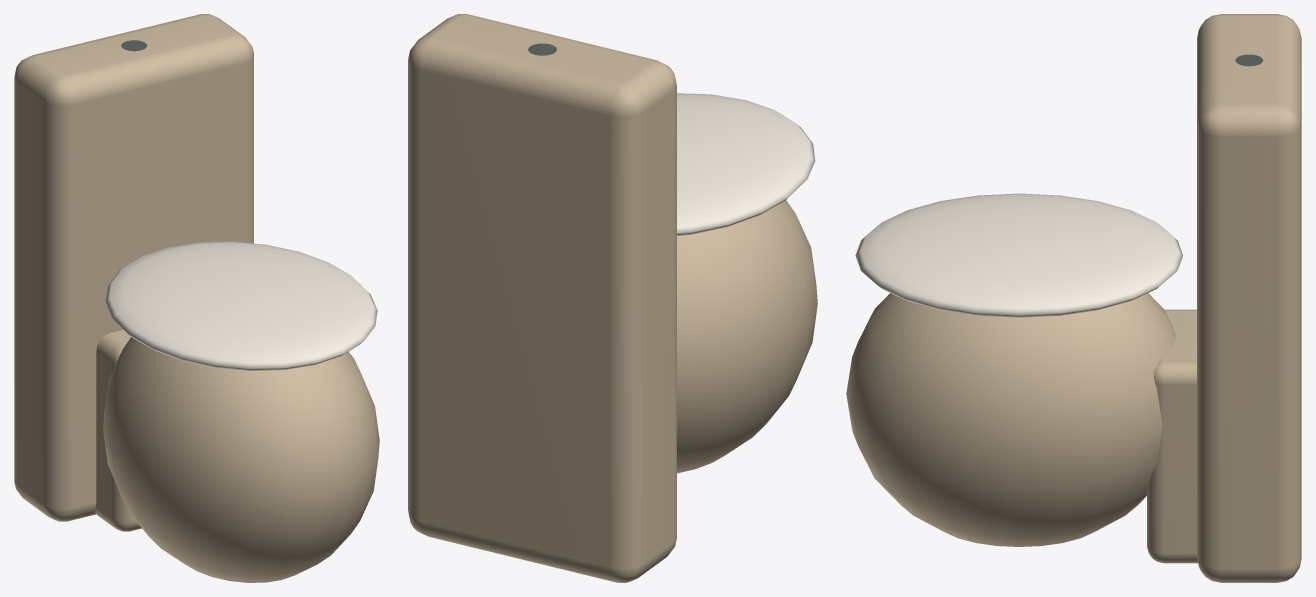
3 views of the same model, side by side, from view 1: azimuth 30°, elevation 25°; view 2: azimuth 150°, elevation 25°; view 3: azimuth 270°, elevation 25° (orthographic). The views are drawn at different scales.
Visible parts, largest first — view 1: tank, bowl, seat, pedestal_bridge; view 2: tank, bowl, seat; view 3: bowl, tank, seat, pedestal_bridge.
Boxes of the visible parts, x1,y1,x2,y2 form: tank: (14,14,253,521); bowl: (103,337,379,582); seat: (105,241,377,370); pedestal_bridge: (95,329,141,531); tank: (408,14,676,582); bowl: (677,200,817,473); seat: (677,93,815,235); bowl: (846,293,1176,546); tank: (1197,14,1301,582); seat: (855,193,1183,317); pedestal_bridge: (1147,309,1197,563).
Size of the model in its own units: 0.4 by 0.75 by 0.65.
